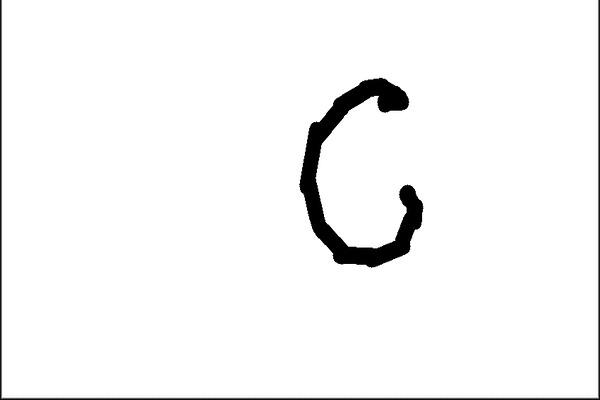C: (294, 73, 427, 271)
